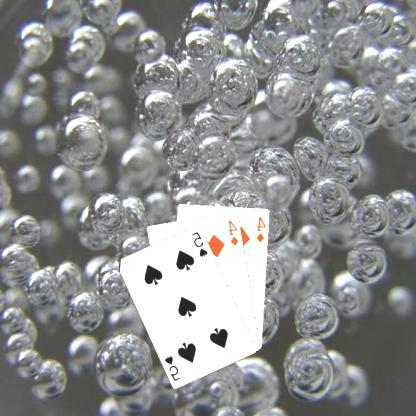4D: (227, 216, 242, 246), (256, 213, 268, 244)
5S: (191, 229, 211, 258), (164, 353, 184, 382)
